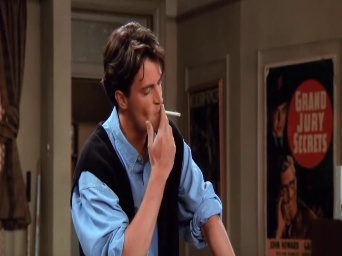smoke: (161, 106, 181, 118)
